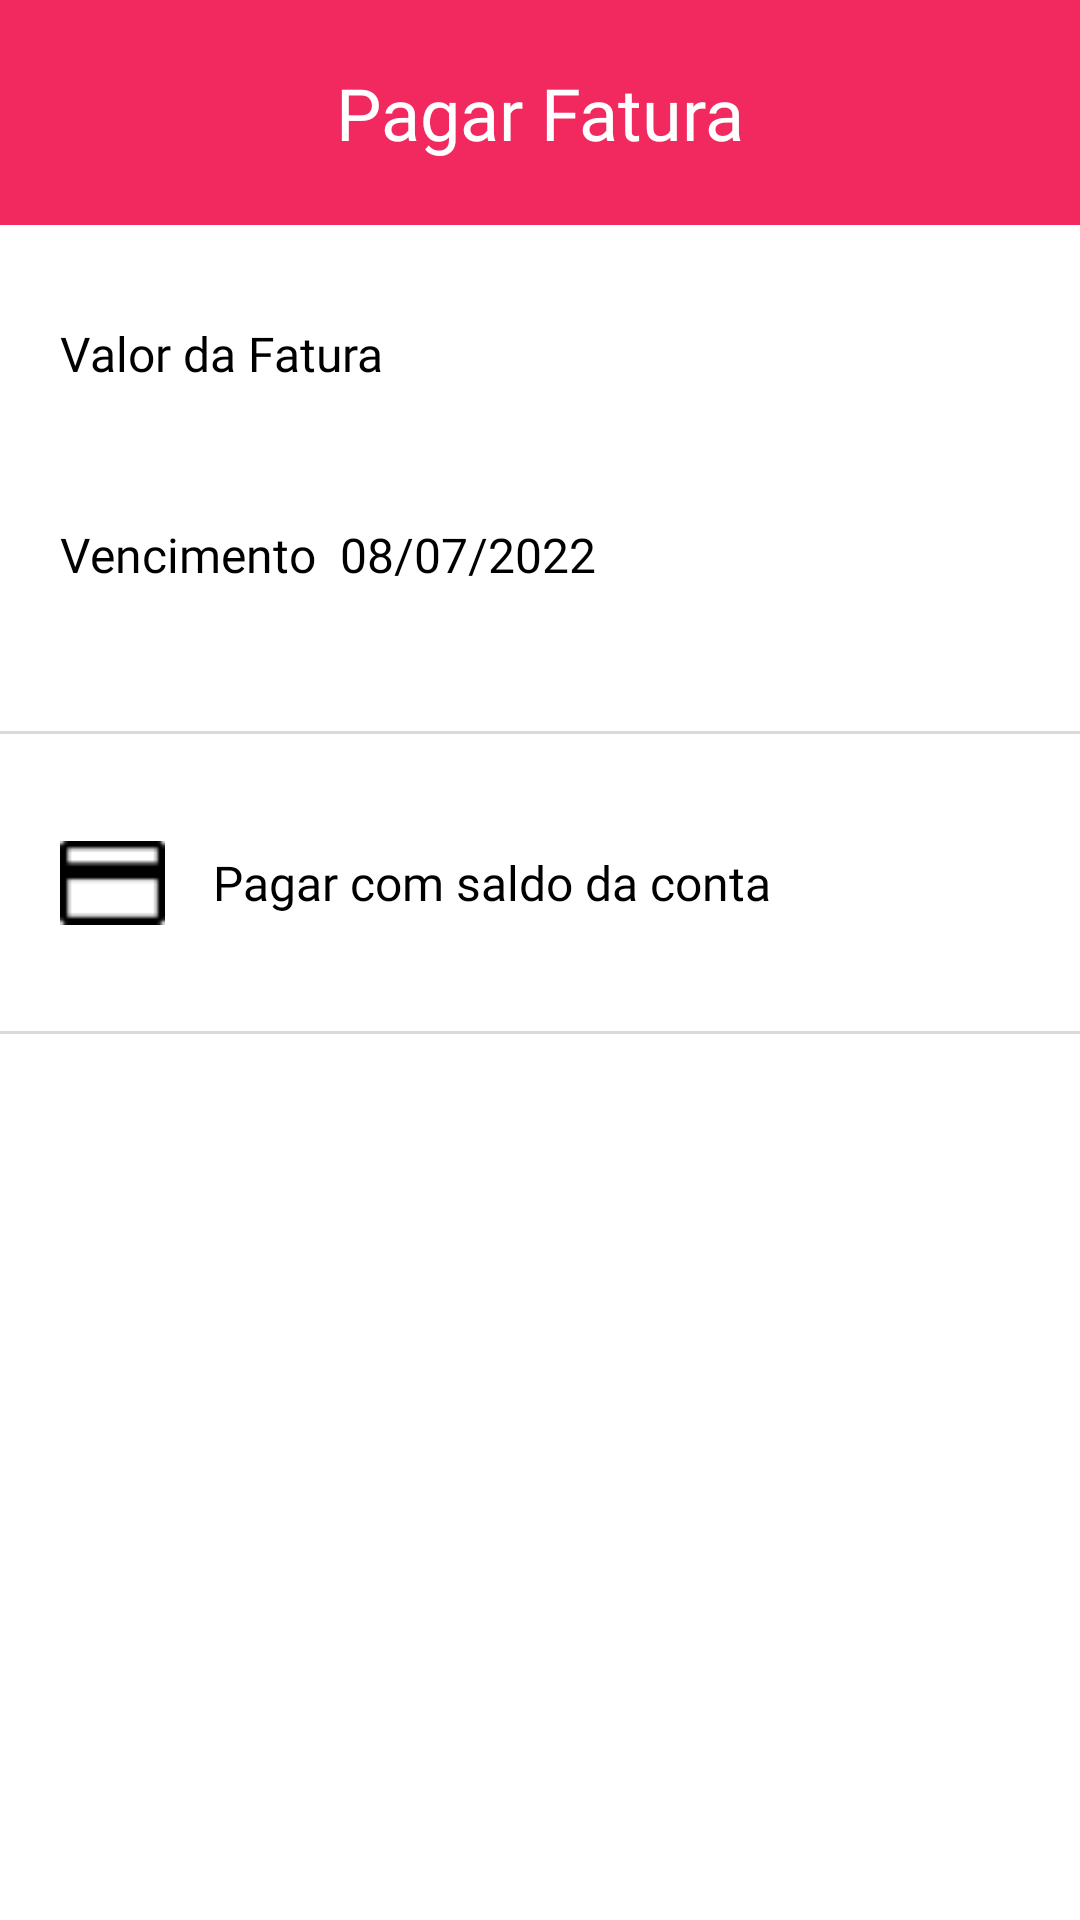

Icon bounding boxes for this 1080x1920 phone screenshot, format {"left": x1, "top": y1, "right": x2, "bottom": y2}:
card: {"left": 60, "top": 841, "right": 165, "bottom": 925}
